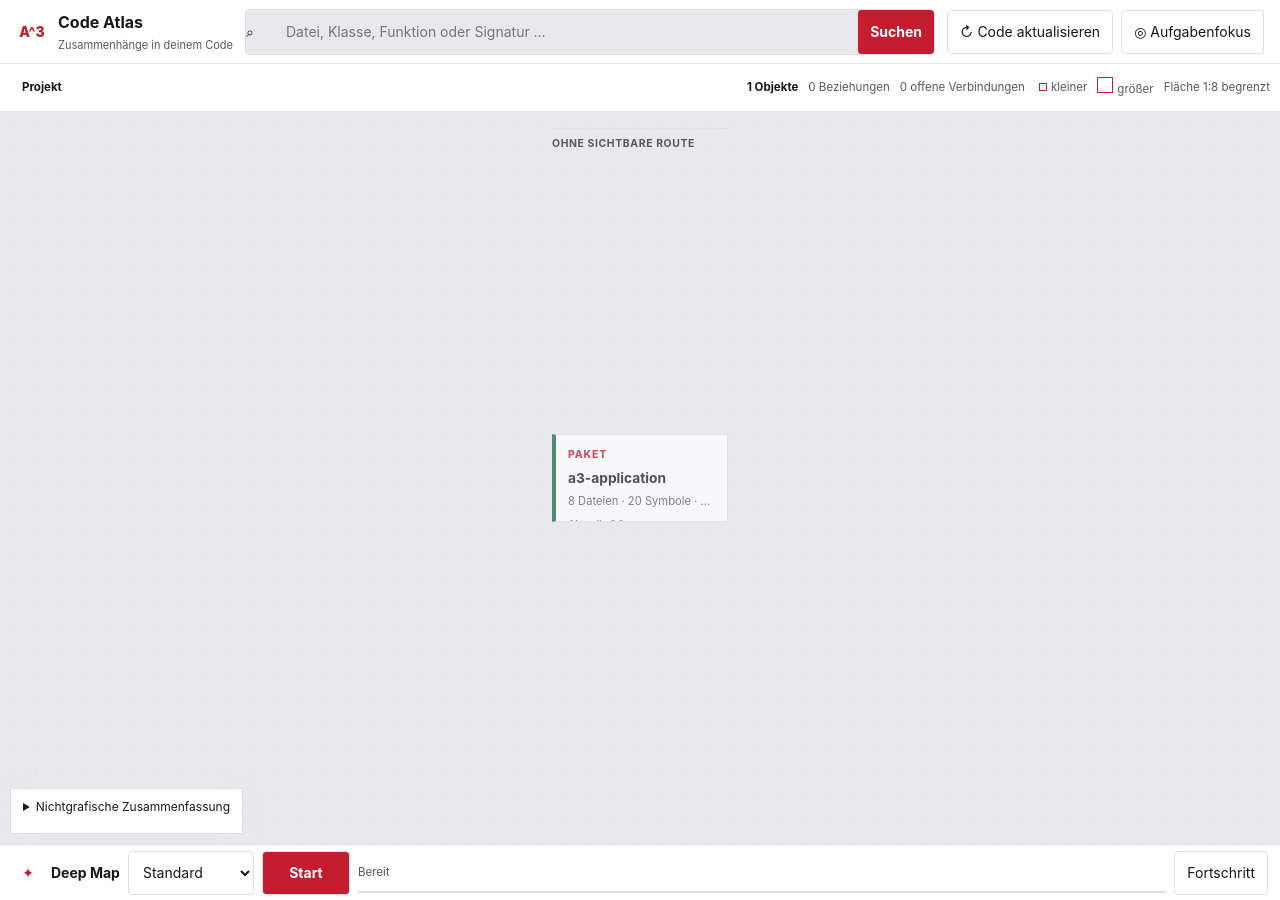
U12 progressive Code Atlas workspace › can recover to the project overview when a focused Atlas scene remains invalid
Click the button with aria-label "a3-application, Paket" at (640, 478), box [552,434,728,522]
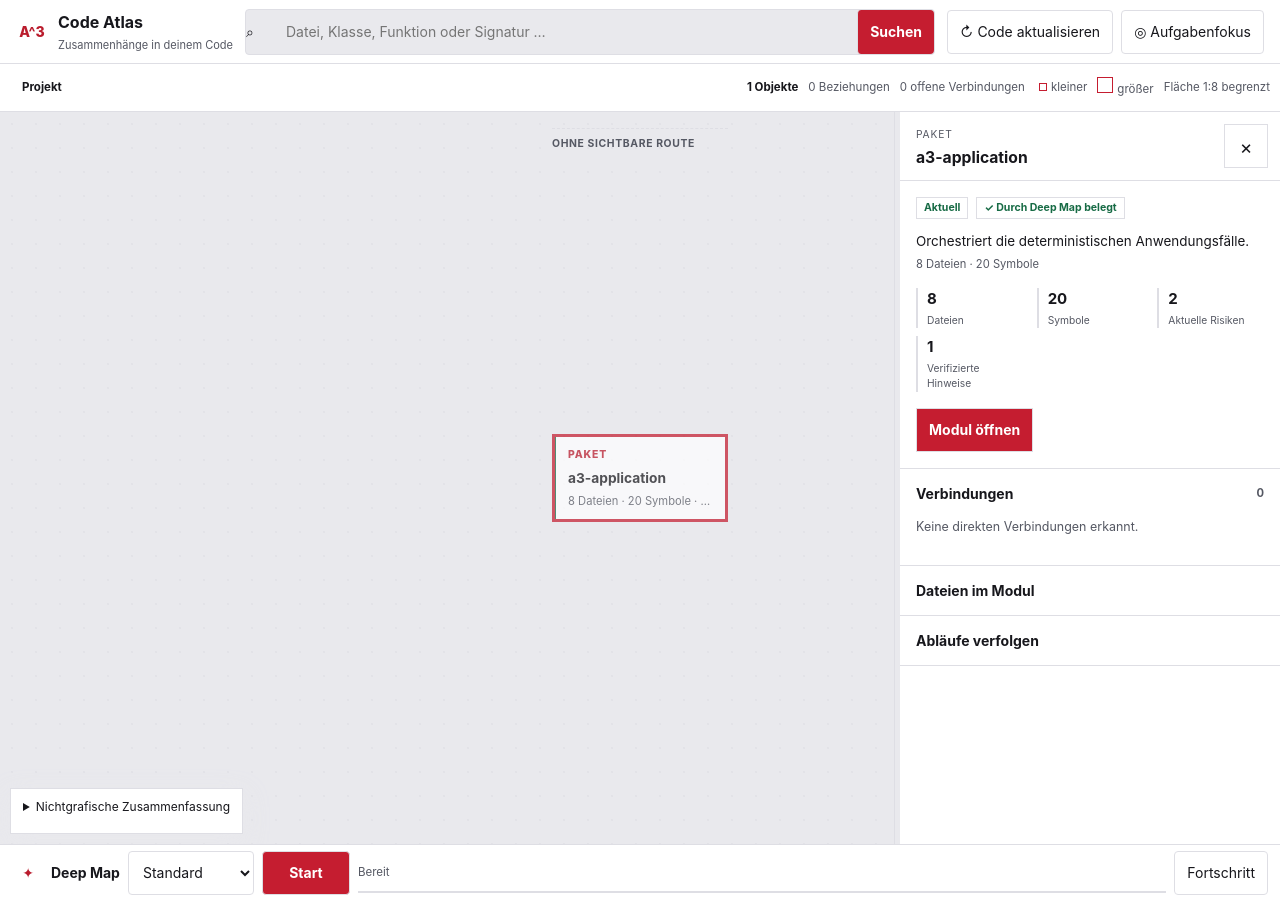
Click the button "Modul öffnen" at (975, 430), box [916,408,1033,452]
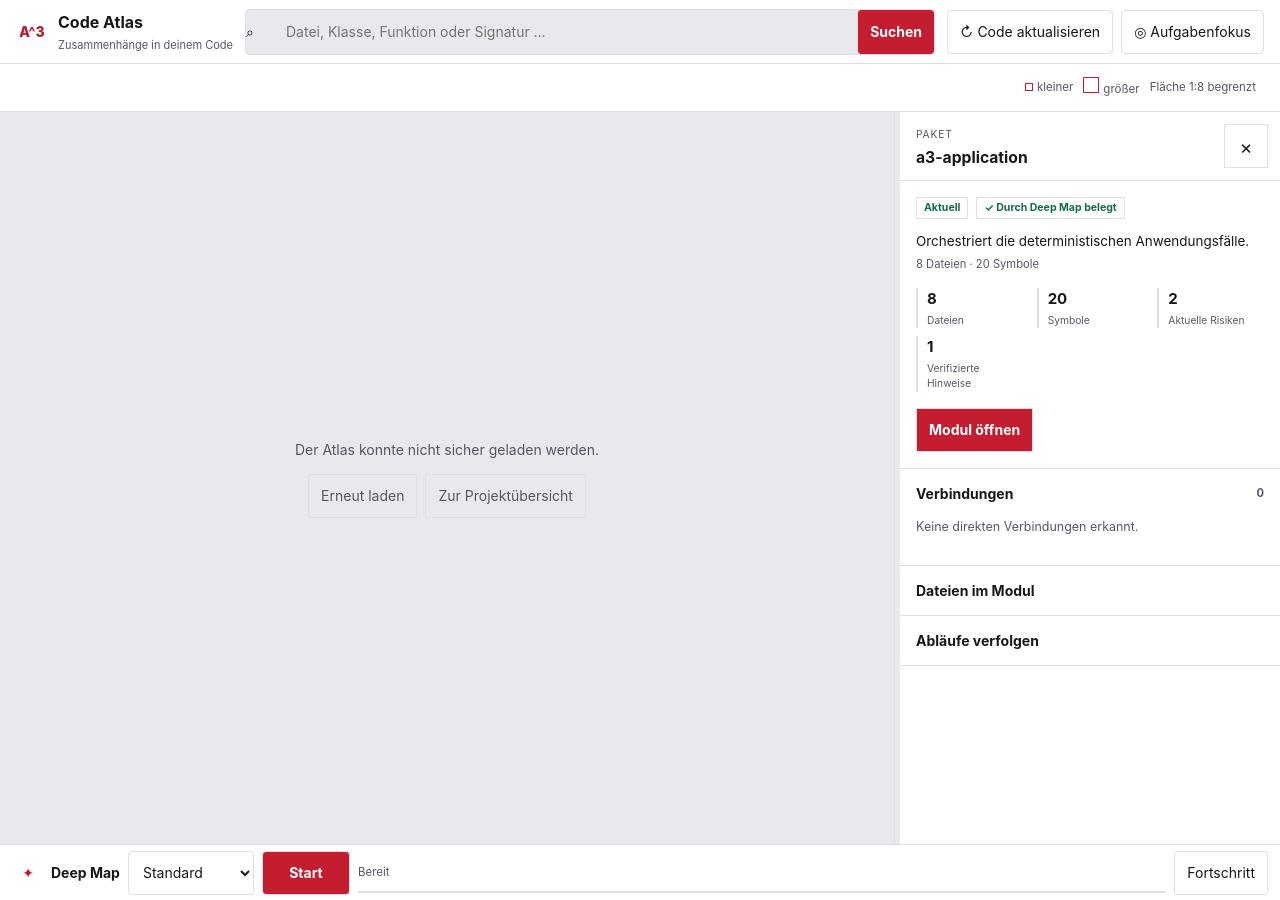
expect the text "Der Atlas konnte nicht sicher geladen werden." is shown: met, box [295,438,599,460]
Click the button "Zur Projektübersicht" at (506, 496), box [426,474,586,518]
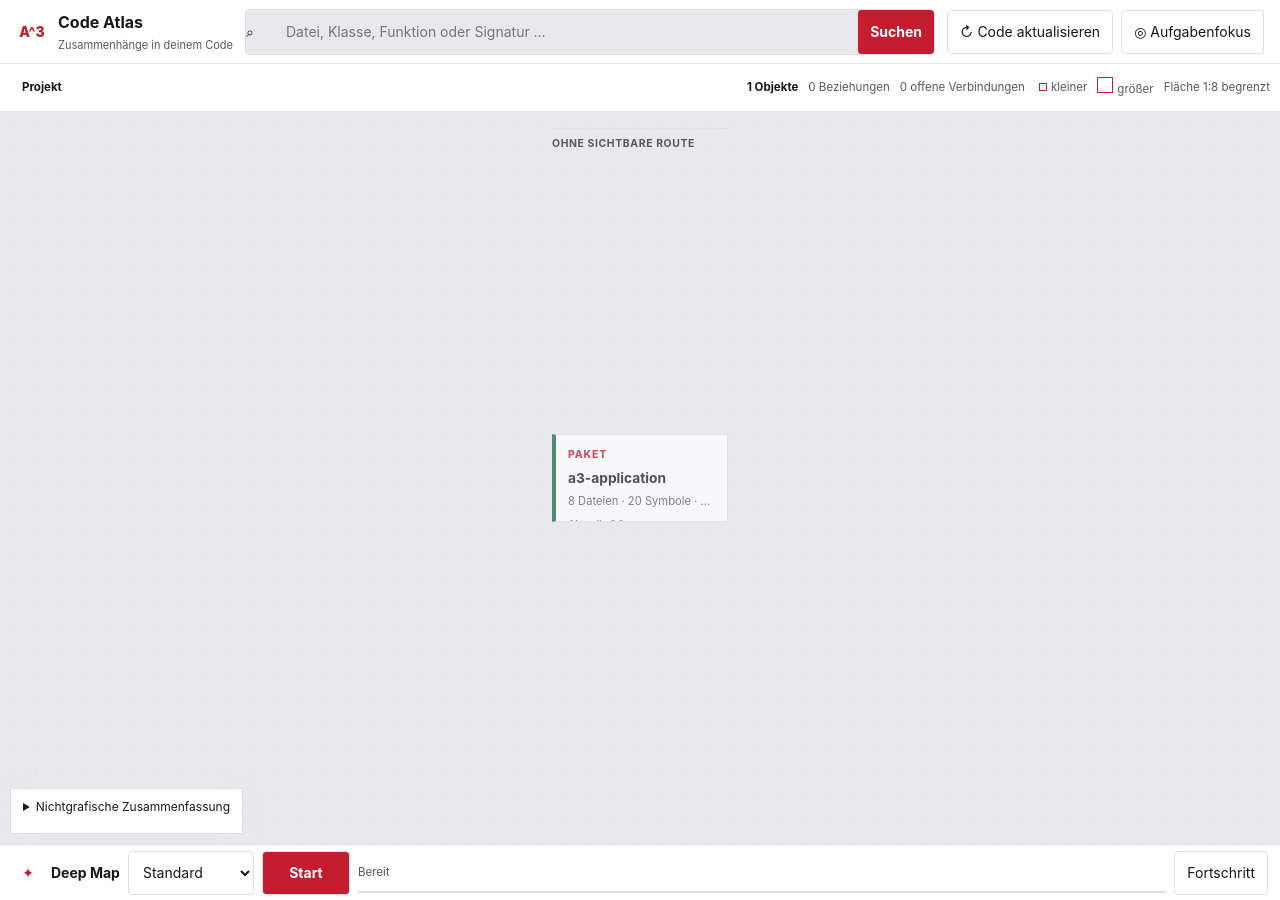
expect the button with aria-label "a3-application, Paket" is shown: met, box [552,434,728,522]
